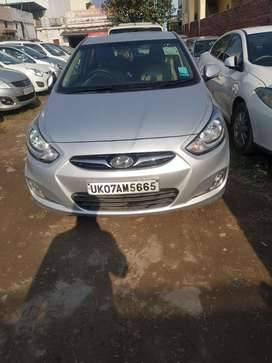UK07AM5665: (87, 180, 158, 194)
